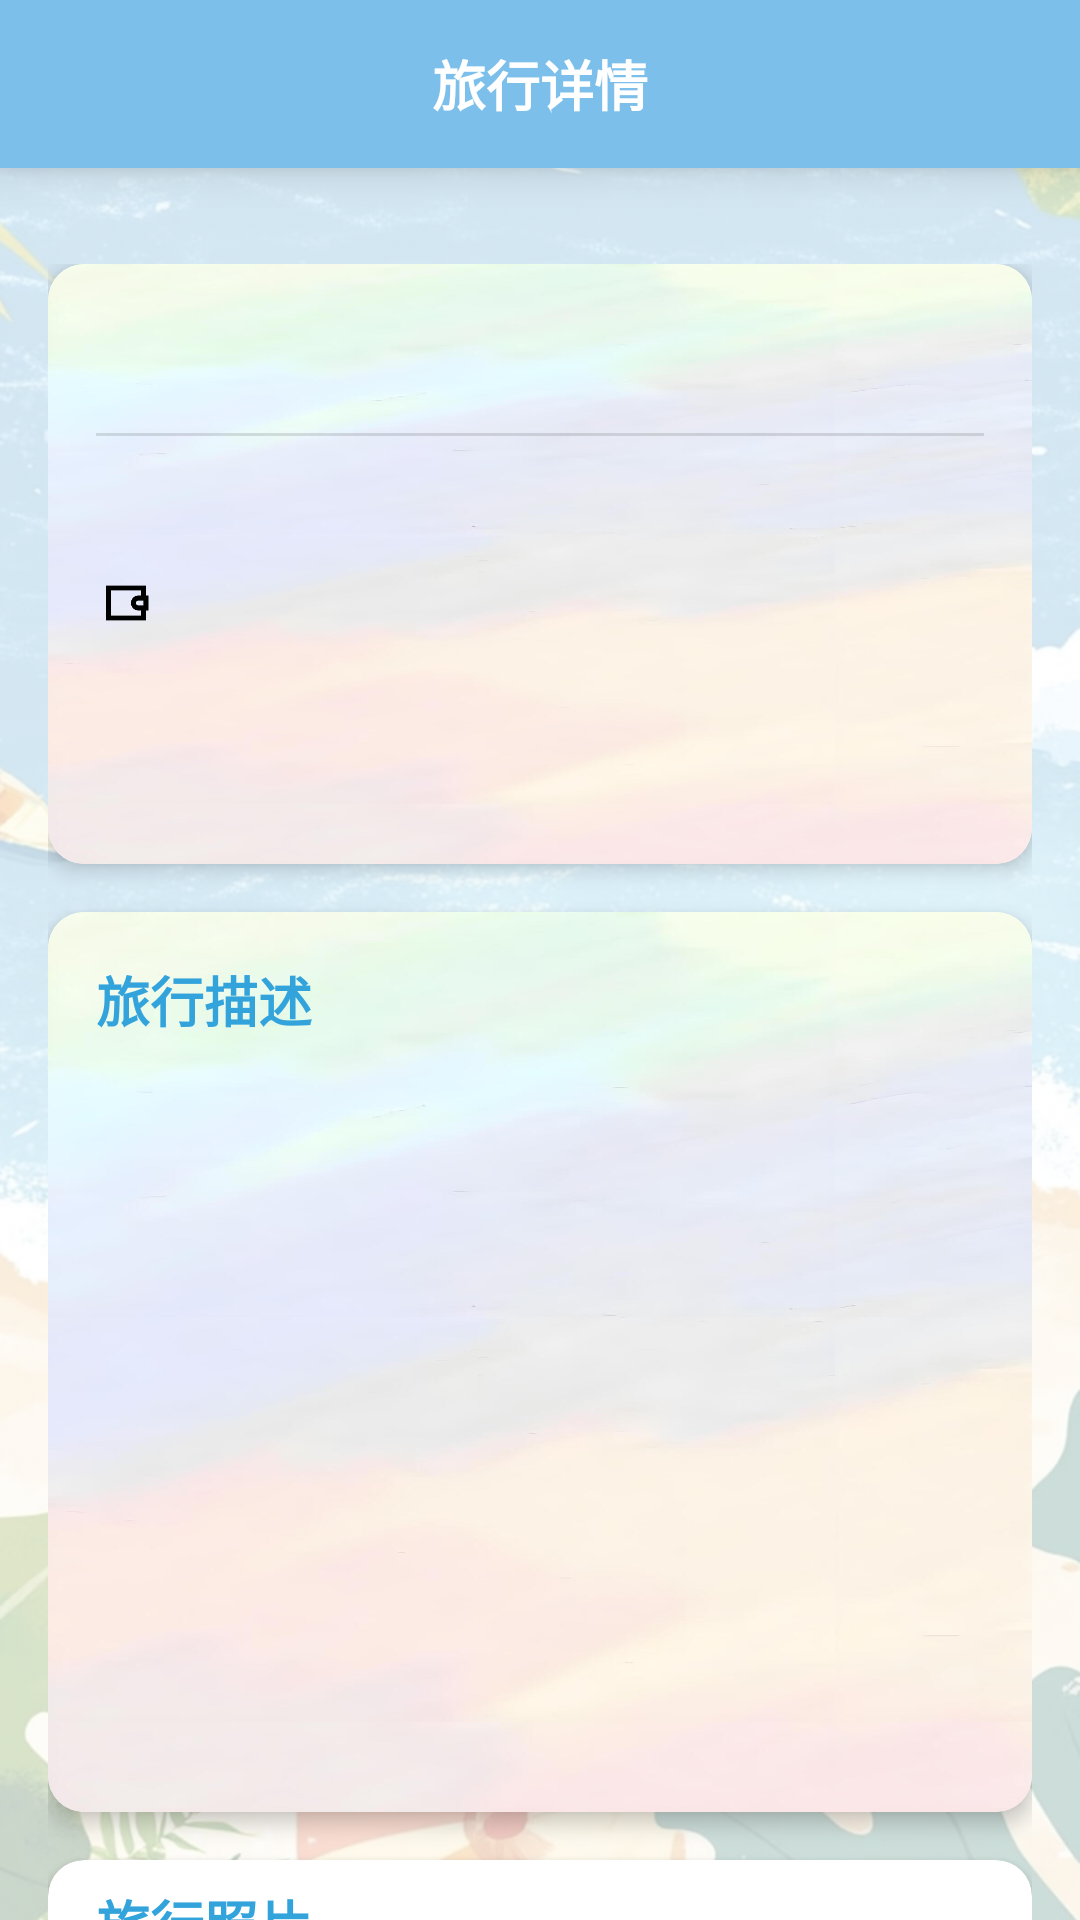

Named icons in this screenshot (1080 x 1920) and their bounding boxes, (x1, y1, x2, y2):
money: (106, 585, 149, 621)
